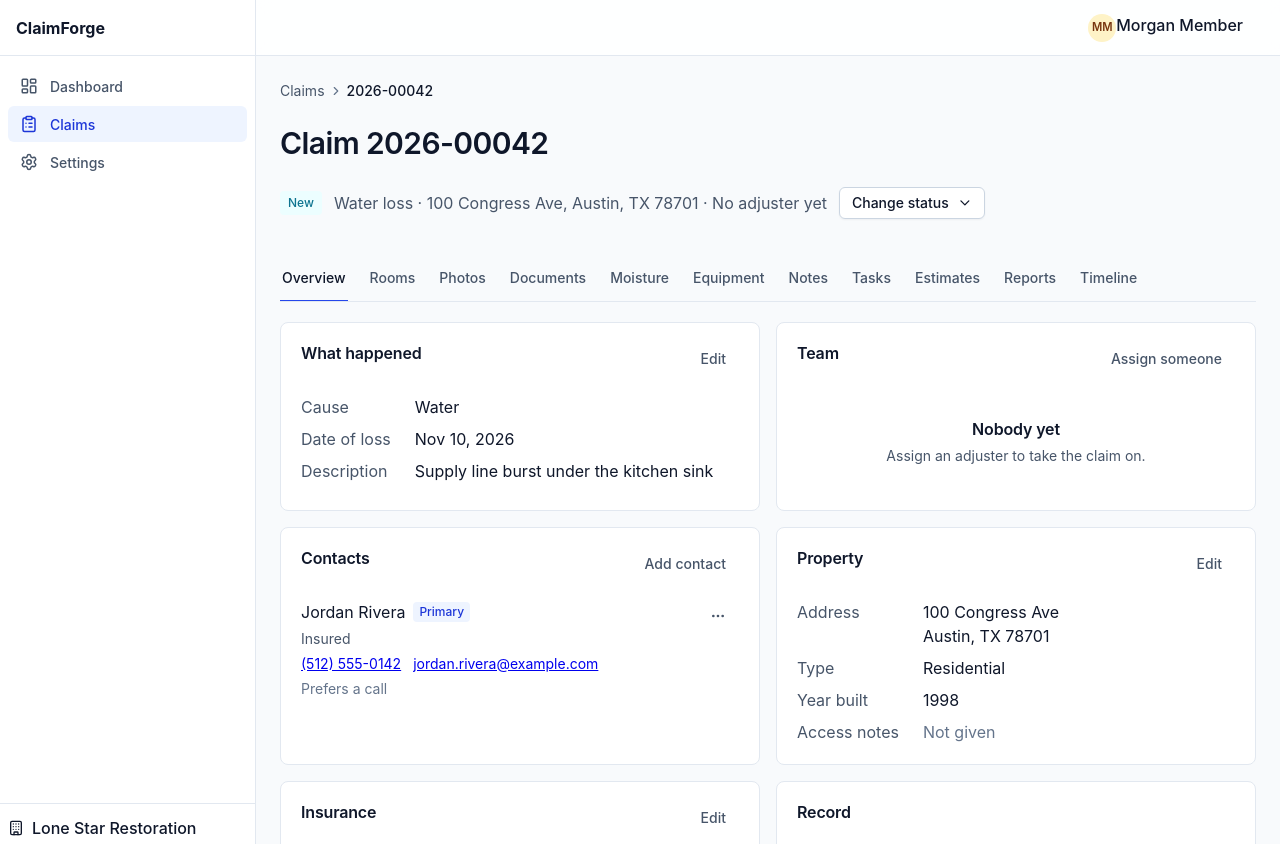
Scenario: editing the loss and insurance › both cards' Edit open the same form
Click the button with aria-label "Edit insurance" at (713, 818), box top-left (688, 802), bottom-right (739, 834)
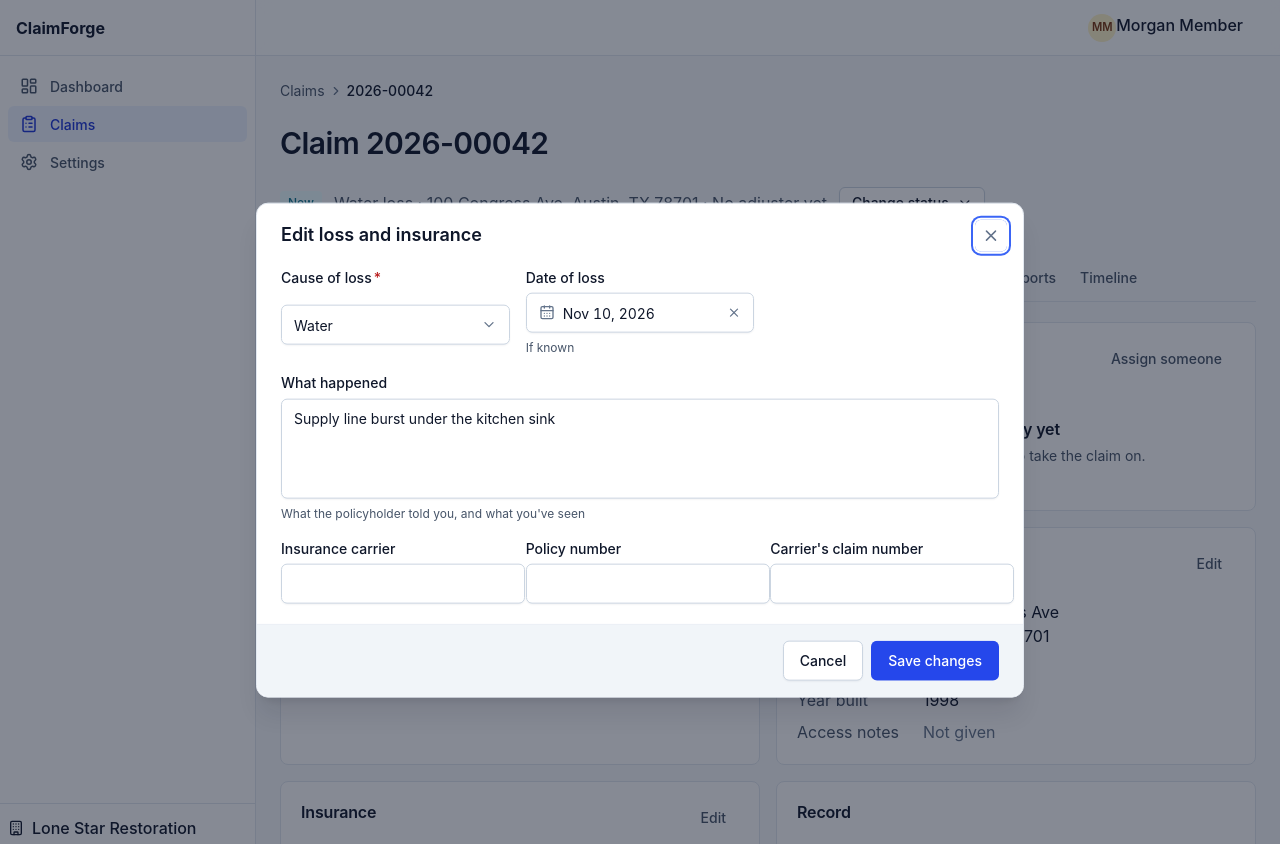
expect the dialog "Edit loss and insurance" is shown: met, box top-left (256, 203), bottom-right (1024, 697)
